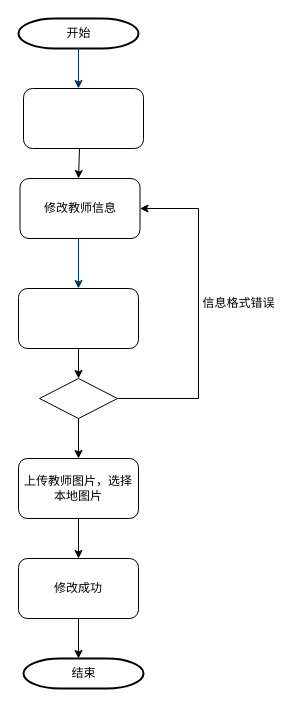
Image size: 305x706. Some labels were removed from this diagram. The box of each missing label's shape, as (x1, y1, x2, y2) in pixels:
信息格式是否正确: (18, 288, 138, 348)
管理员账户登录: (22, 88, 144, 148)
